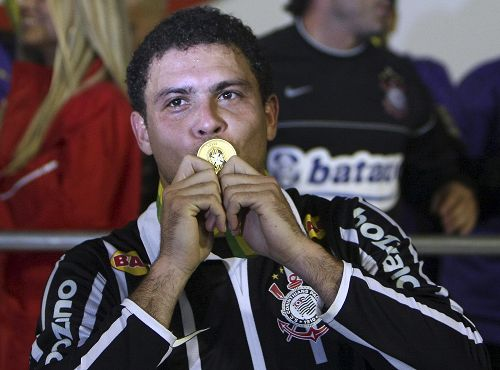face: (148, 45, 265, 193)
